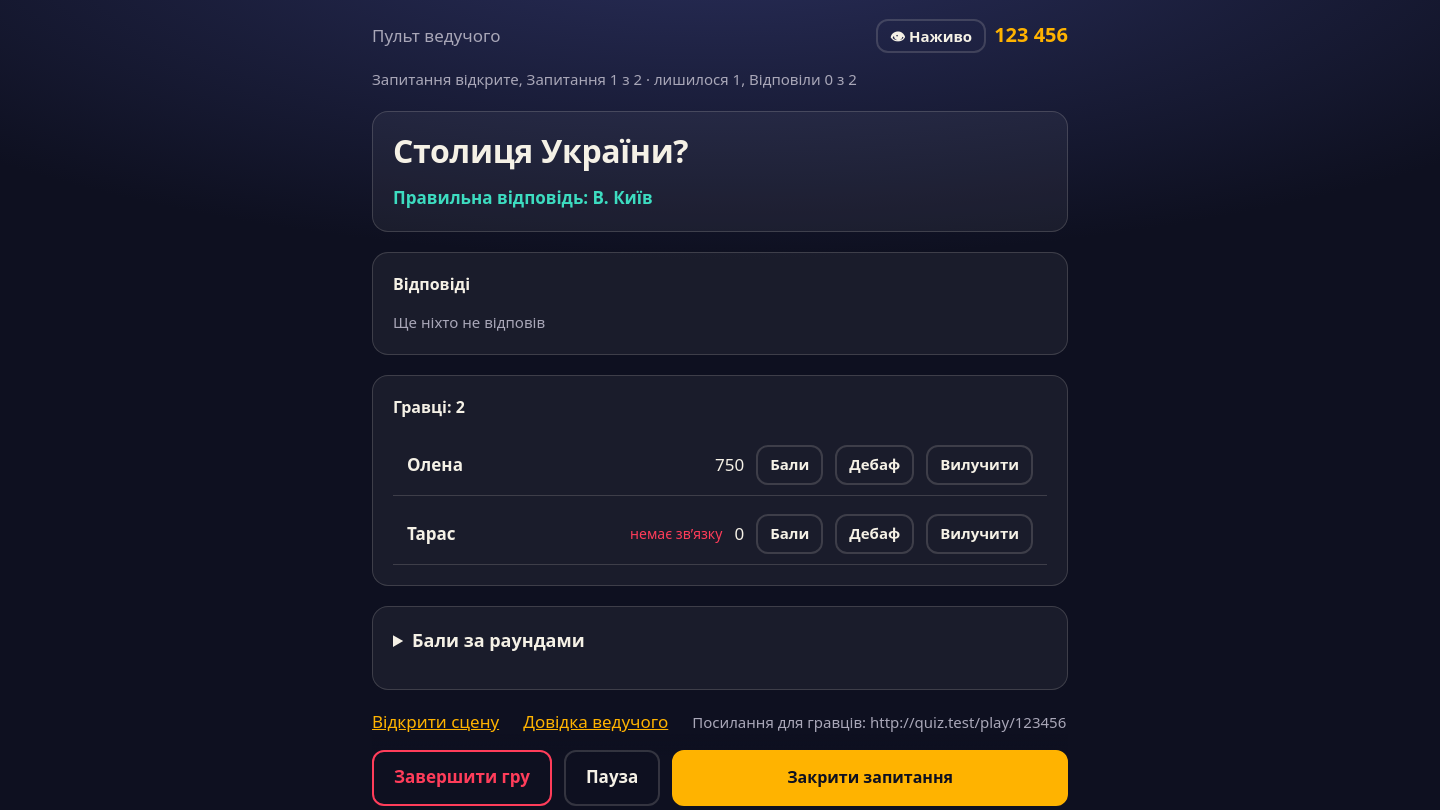
Test: HostScreen: points per round (11f) › the panel is folded and mounts the table only when opened; any row opens its plus / minus
What coordinates should you click on to do the following:
click the heading "Бали за раундами"
I would click on:
 (498, 640)
Its box is [412,628,585,652].
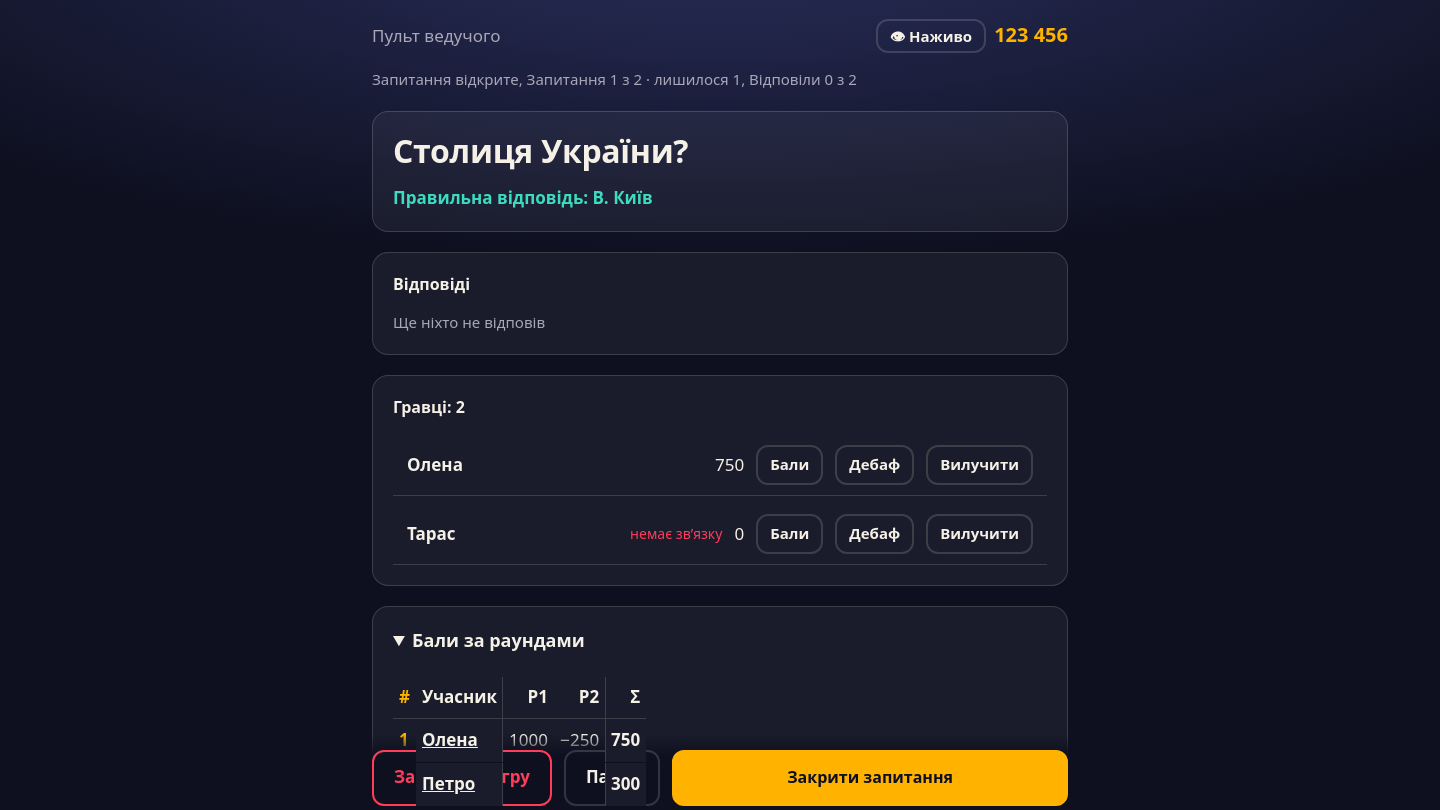
What coordinates should you click on to do the following:
click the button with aria-label "«+ / −» для Петро"
I would click on:
 (449, 785)
Its box is [422,772,475,797].
(page scrolled)
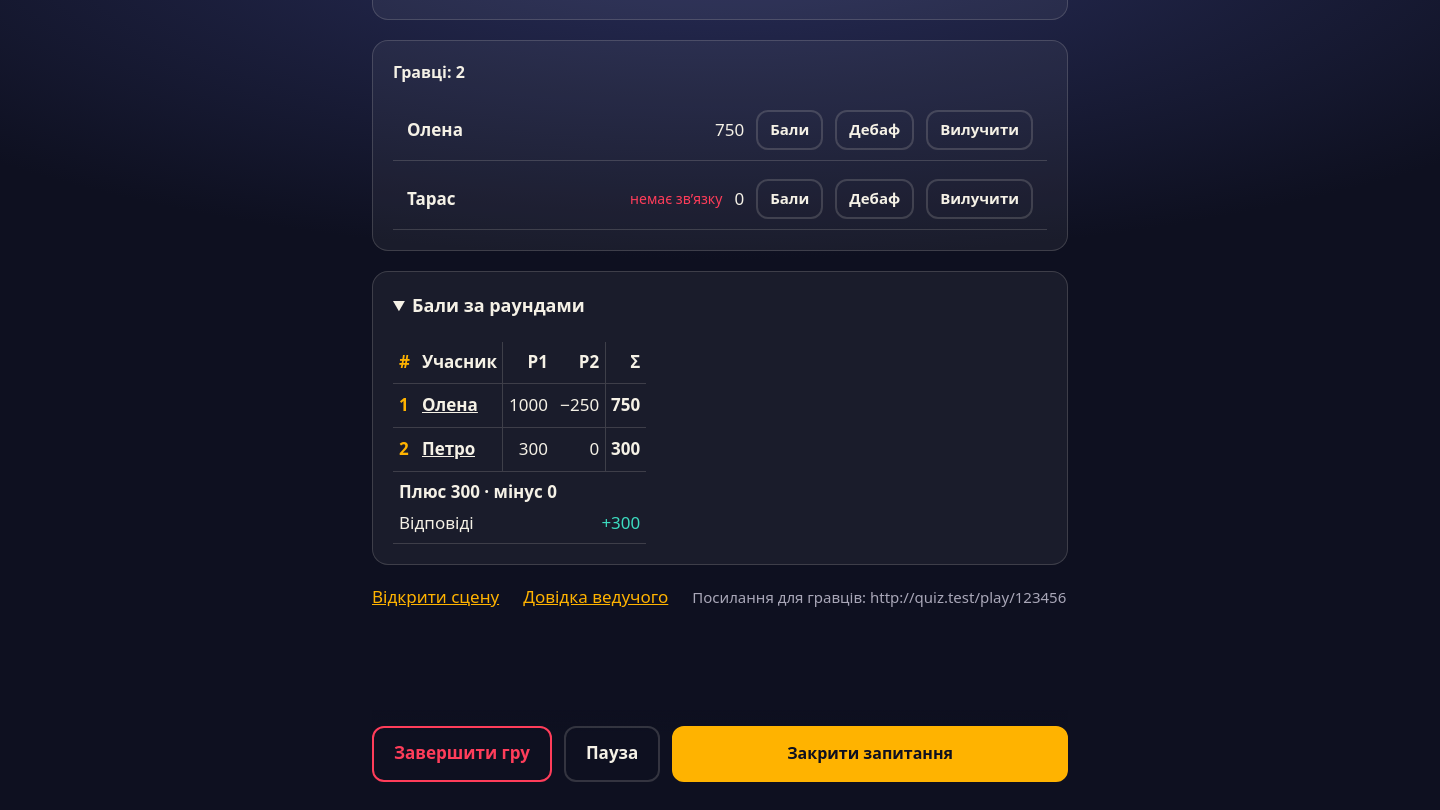
Check: the element showing "Плюс 300 · мінус 0 Відповіді +300" is shown, box [399,480,640,535]
